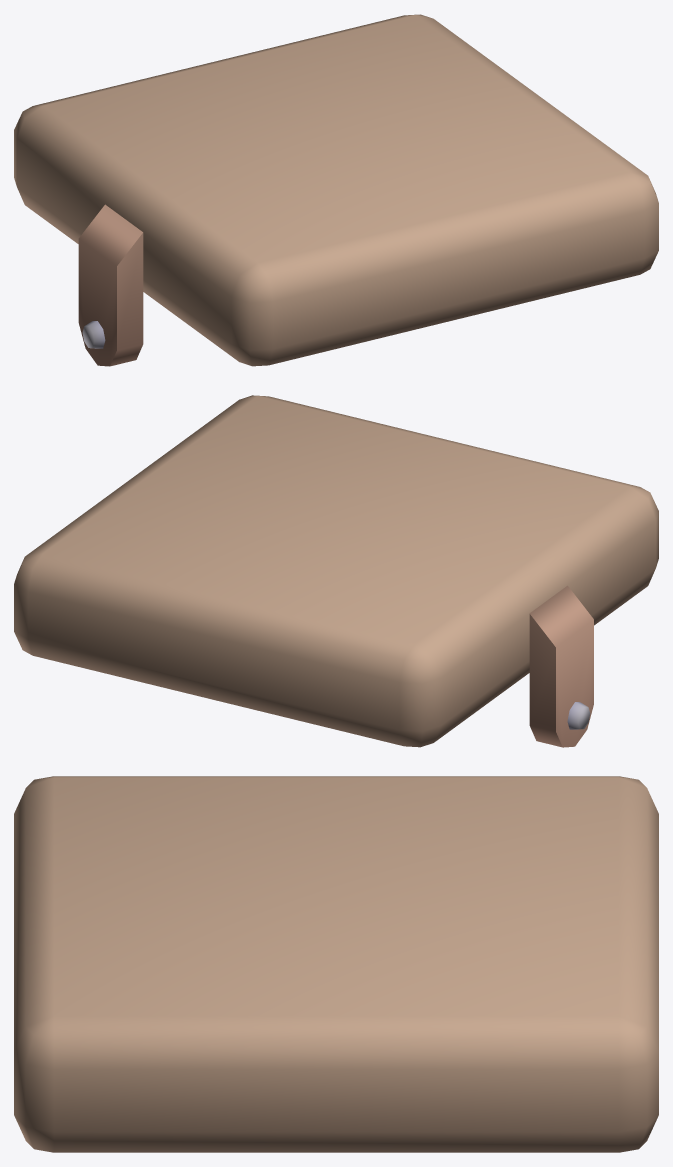
File: (%no-merge) lid.glb
3 renders of one model, top to bottom at view 1: azimuth 30°, elevation 25°; view 2: azimuth 150°, elevation 25°; view 3: azimuth 270°, elevation 25°, orthographic. The views are drawn at different scales.
Visible parts, largest first — view 1: (%no-merge) lid; view 2: (%no-merge) lid; view 3: (%no-merge) lid.
Boxes of the visible parts, x1=… form: (%no-merge) lid: x1=14, y1=14, x2=658, y2=366; (%no-merge) lid: x1=14, y1=395, x2=658, y2=747; (%no-merge) lid: x1=14, y1=776, x2=658, y2=1152.
Size of the model in its own units: 0.348 by 0.1218 by 0.321.
